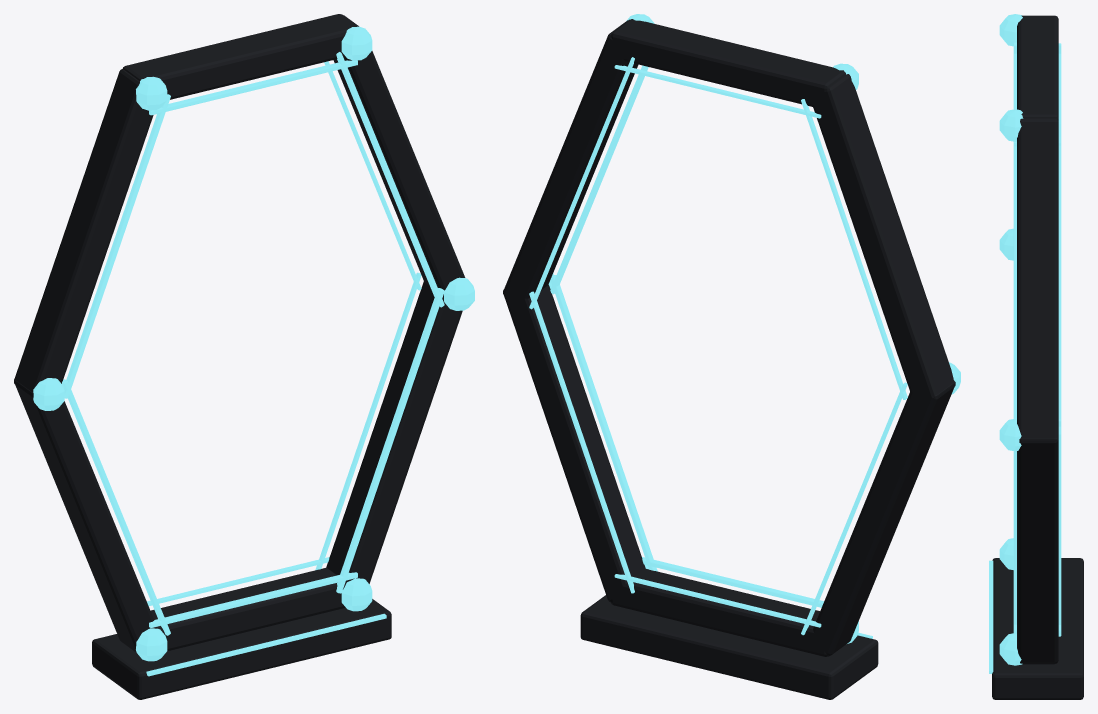
File: arena-frame.glb
3 renders of one model, left to right at view 1: azimuth 30°, elevation 25°; view 2: azimuth 150°, elevation 25°; view 3: azimuth 270°, elevation 25°, orthographic. The views are drawn at different scales.
Parts seen in each view (by area): view 1: Body, Trim; view 2: Body, Trim; view 3: Body, Trim.
Boxes of the visible parts, x1,y1,x2,y2 form: Body: (14,14,465,699); Trim: (33,26,474,676); Body: (503,19,955,699); Trim: (529,14,960,643); Body: (992,15,1083,699); Trim: (989,14,1061,673).
Bounding box in the file's own units: 5.78 × 7.66 × 1.14.
